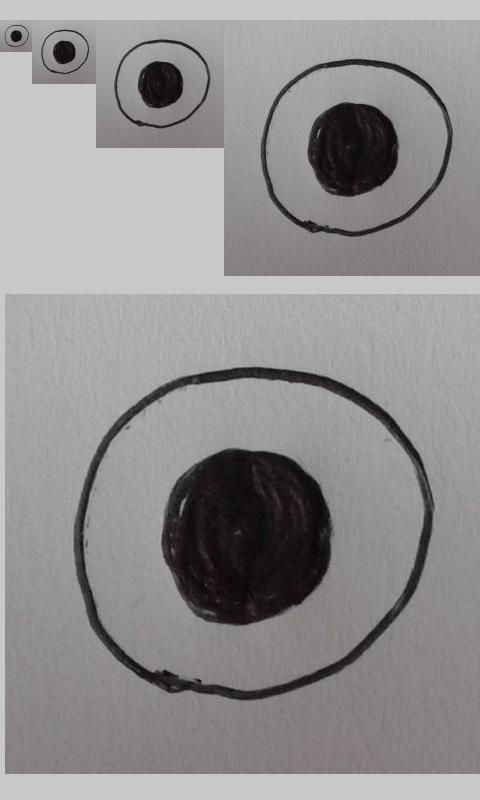radio_button: (71, 364, 438, 702), (259, 56, 455, 239), (113, 39, 211, 129), (40, 29, 90, 75), (4, 24, 29, 48)
